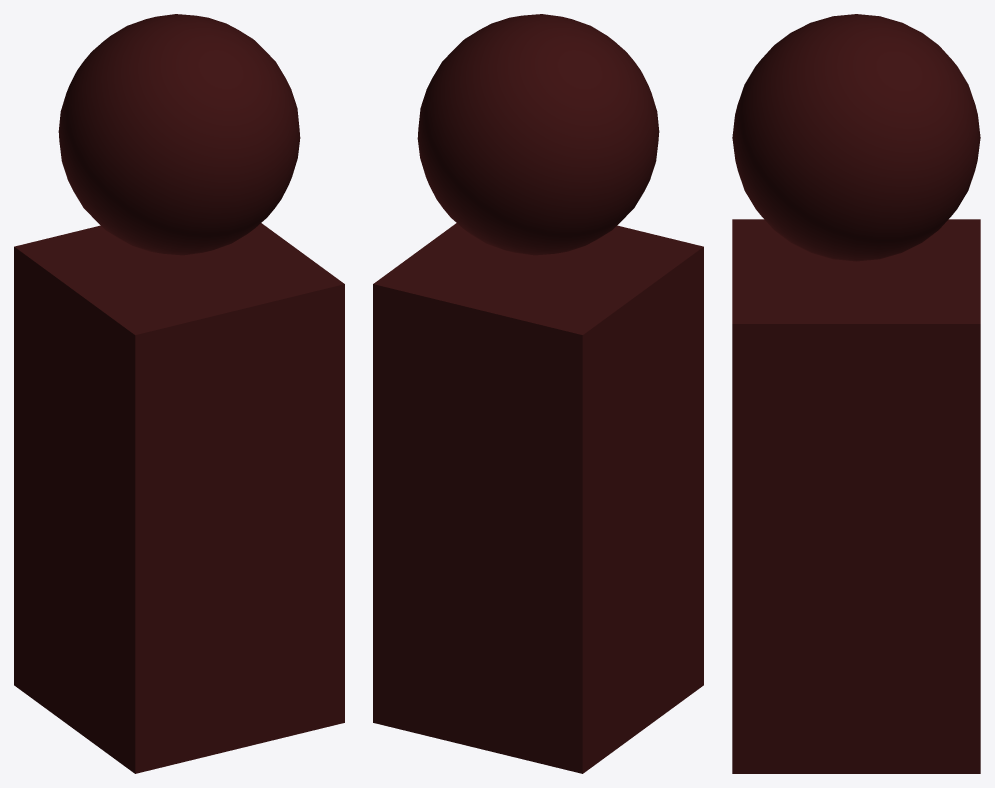
File: Avatar1.glb
The picture shows the model from 3 angles, left to right: view 1: azimuth 30°, elevation 25°; view 2: azimuth 150°, elevation 25°; view 3: azimuth 270°, elevation 25°; orthographic projection. The views are drawn at different scales.
Visible parts, largest first — view 1: Body, Head; view 2: Body, Head; view 3: Body, Head.
Boxes of the visible parts, x1,y1,x2,y2 form: Body: (14,223,344,773); Head: (58,14,300,255); Body: (373,223,703,773); Head: (417,14,659,255); Body: (732,219,980,773); Head: (732,14,980,261).
Bounding box in the file's own units: 1 × 3.09 × 1.
